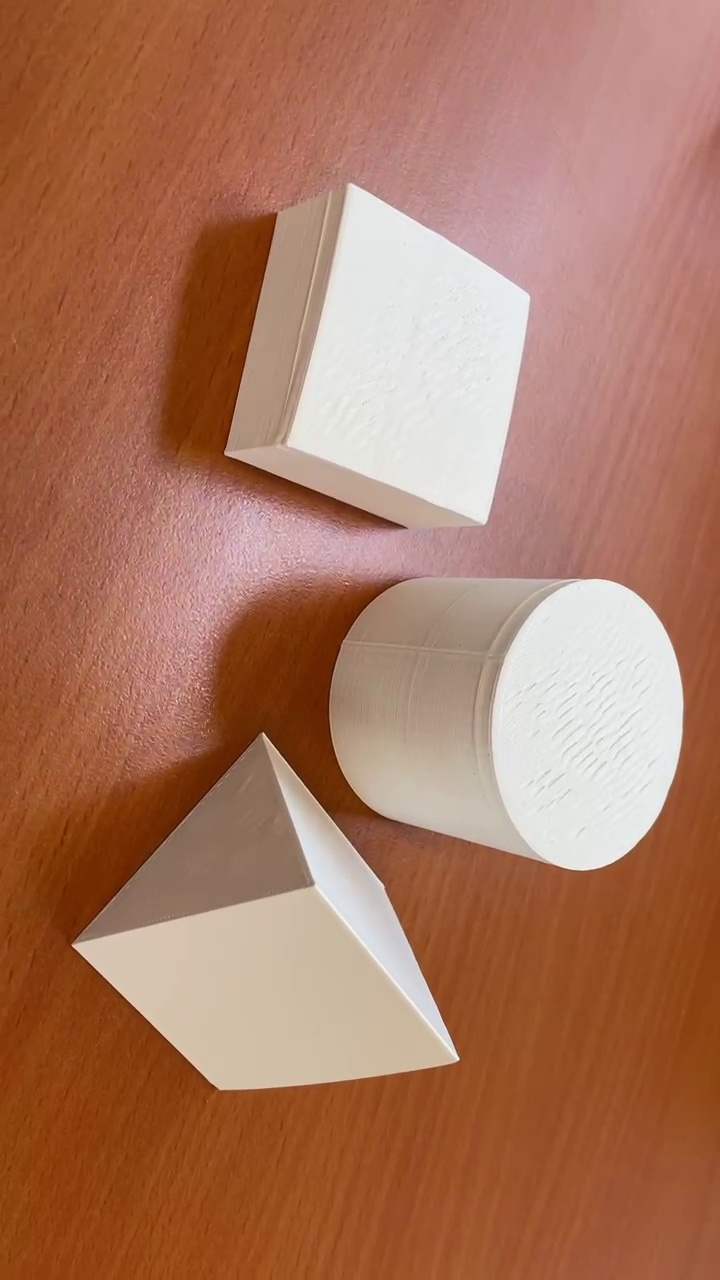Cube_short: (213, 179, 531, 535)
Cylinder: (330, 571, 685, 872)
Triangle: (65, 734, 461, 1118)
